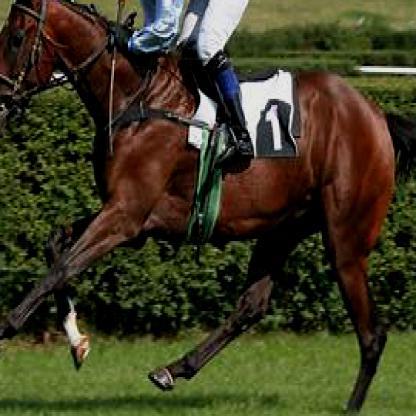horse: (0, 0, 396, 414)
